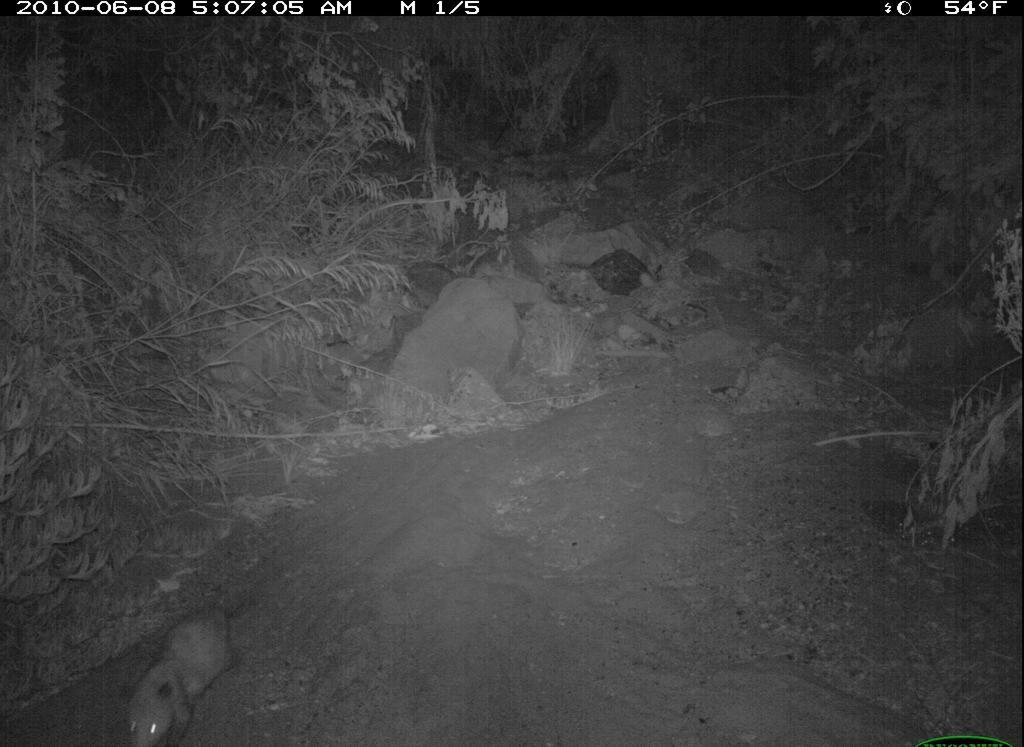opossum: (115, 591, 269, 742)
